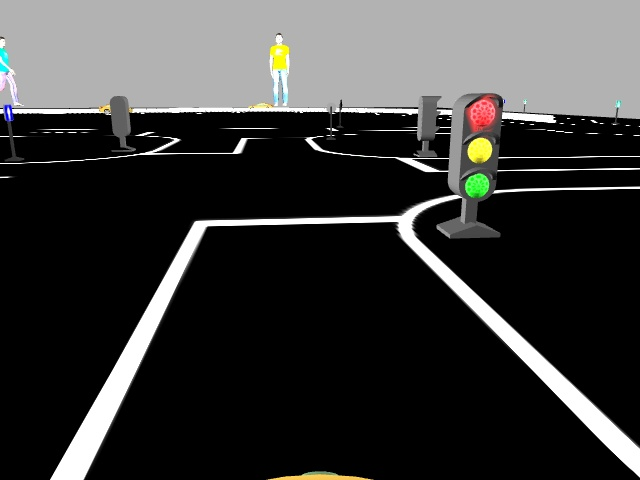TrafficLight: (446, 89, 499, 202)
